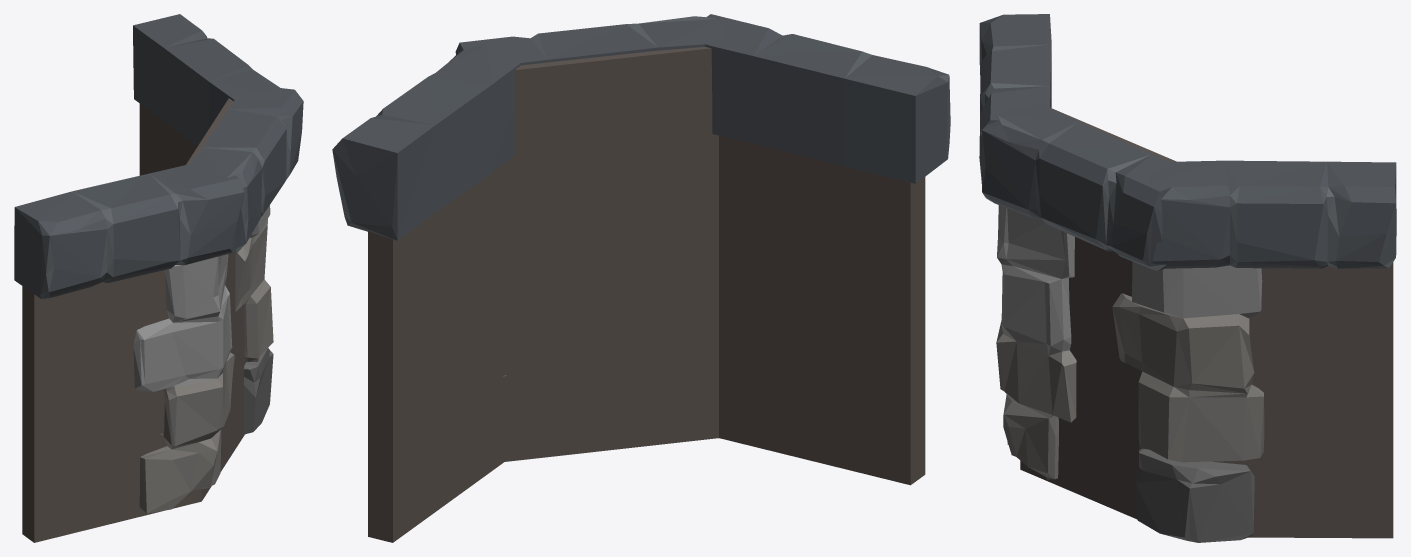
Rendered from MCastle_OctWalls_HeavyTrim.FBX.
3 renders of one model, left to right at view 1: azimuth 30°, elevation 25°; view 2: azimuth 150°, elevation 25°; view 3: azimuth 270°, elevation 25°, orthographic. The views are drawn at different scales.
Visible parts, largest first — view 1: MCastle_OctWalls_HeavyTrim_LOD0; view 2: MCastle_OctWalls_HeavyTrim_LOD0; view 3: MCastle_OctWalls_HeavyTrim_LOD0.
Part boxes in pixels (box(x1,y1,x2,y2)): MCastle_OctWalls_HeavyTrim_LOD0: box(14, 14, 303, 542); MCastle_OctWalls_HeavyTrim_LOD0: box(332, 14, 950, 542); MCastle_OctWalls_HeavyTrim_LOD0: box(979, 14, 1396, 542).
Size of what is drawn, in the model's own units: 4.83 by 4.5 by 4.69.
